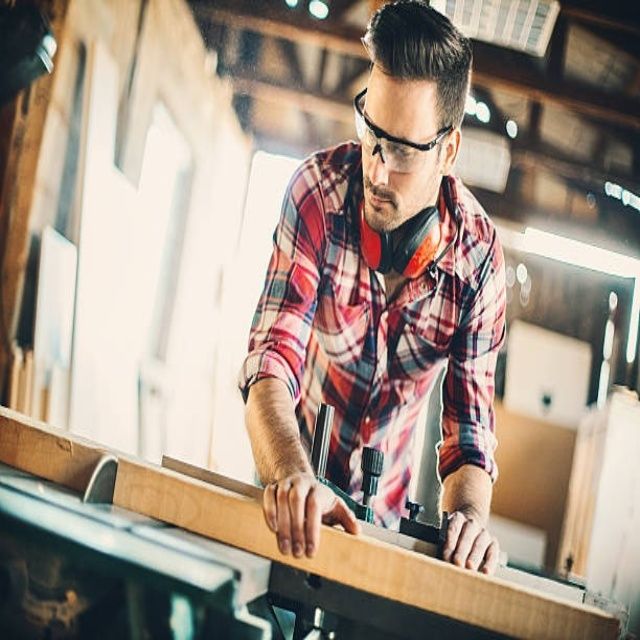Gafas: (353, 87, 455, 169)
Sin_guantes: (261, 467, 355, 558), (439, 505, 501, 575)
Sin_mascara: (362, 182, 404, 231)
